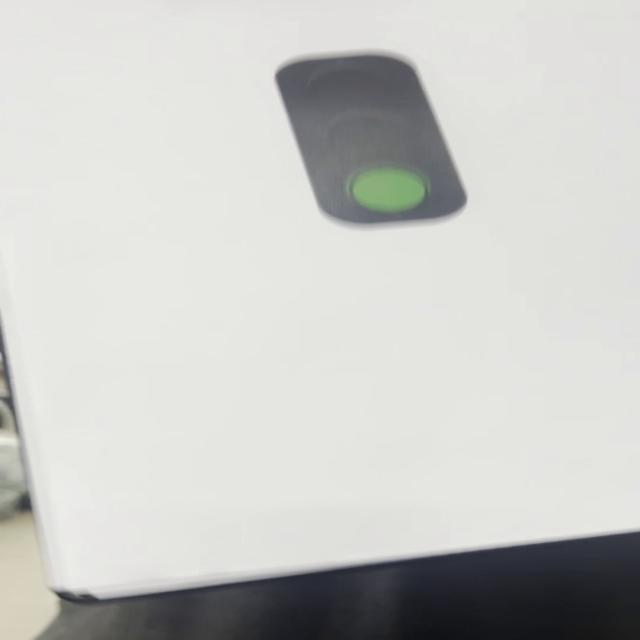green: (276, 57, 471, 225)
